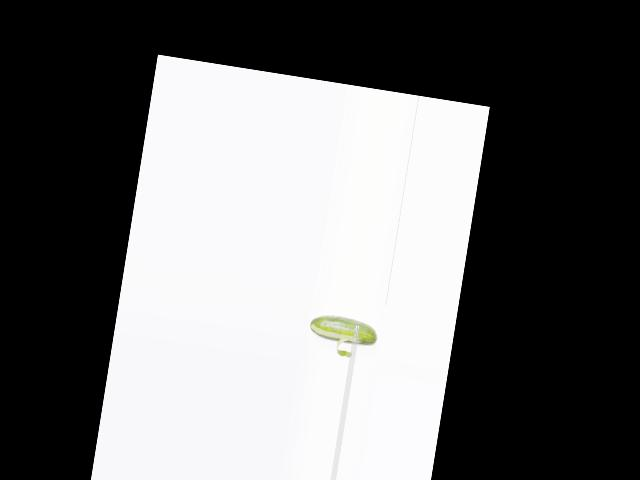cucumber: (308, 312, 380, 348)
